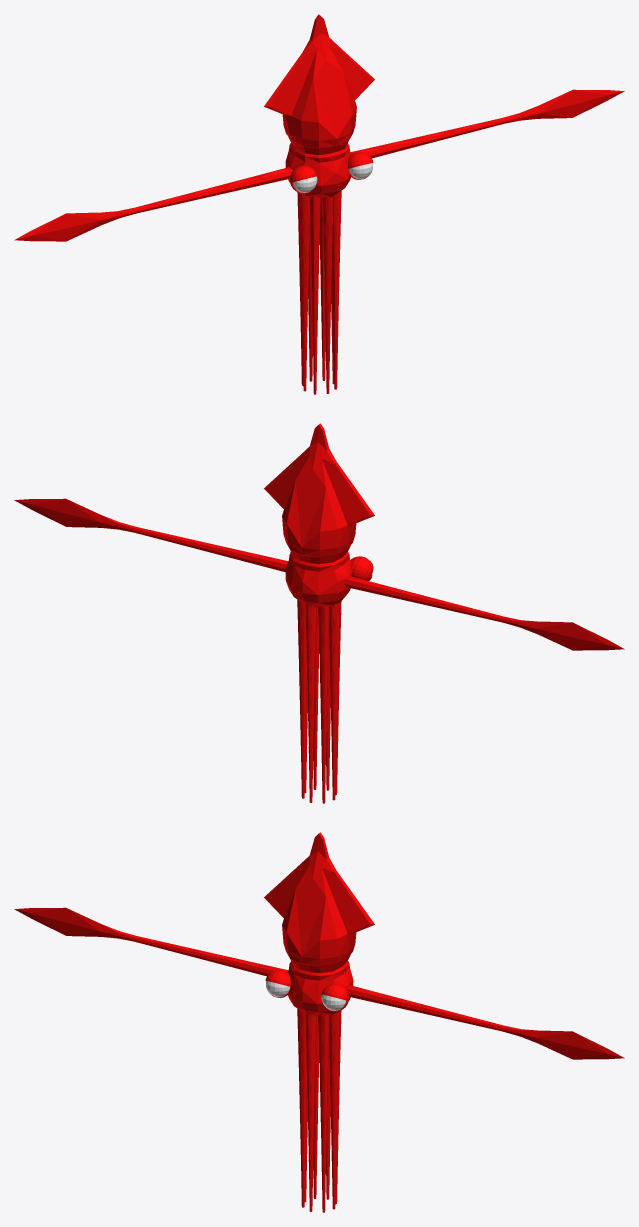
The model's file is Squid_Basic_SP.fbx.
The picture shows the model from 3 angles, top to bottom: view 1: azimuth 30°, elevation 25°; view 2: azimuth 150°, elevation 25°; view 3: azimuth 330°, elevation 25°; orthographic projection.
Visible parts, largest first — view 1: Body1, Eyeballs; view 2: Body1; view 3: Body1, Eyeballs.
Boxes of the visible parts, left/top/right/bottom form: Body1: left=14, top=14, right=624, bottom=394; Eyeballs: left=293, top=163, right=372, bottom=192; Body1: left=14, top=423, right=624, bottom=803; Body1: left=14, top=832, right=624, bottom=1212; Eyeballs: left=266, top=981, right=345, bottom=1010.
Size of the model in its own units: 49.79 by 28.99 by 5.15.
